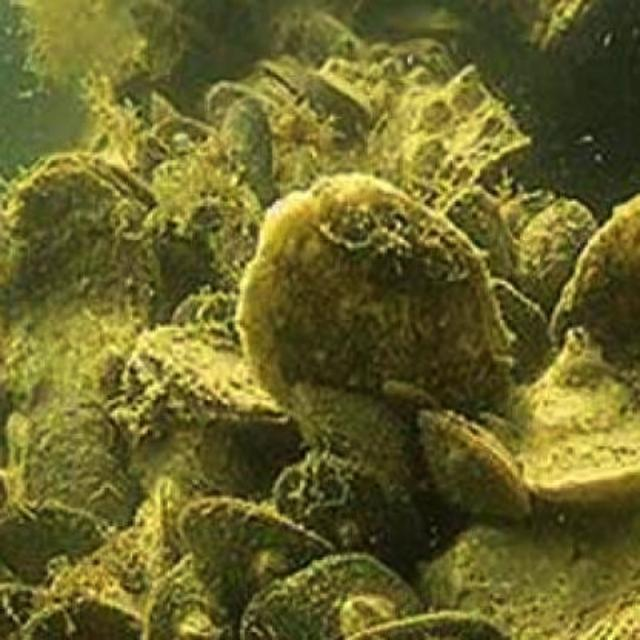Oyster-Closed: (235, 171, 516, 424), (0, 150, 162, 391), (518, 334, 638, 505), (273, 452, 428, 569), (177, 495, 335, 609), (125, 323, 292, 428), (240, 549, 424, 638), (552, 203, 638, 371), (421, 408, 534, 514), (22, 439, 142, 526), (515, 194, 600, 311), (0, 501, 107, 585), (146, 554, 241, 638), (448, 188, 517, 282), (217, 96, 275, 203), (495, 278, 556, 376), (29, 399, 124, 456), (20, 597, 144, 638), (543, 0, 624, 62), (340, 611, 514, 638), (156, 470, 192, 562), (206, 81, 276, 128), (310, 72, 371, 119), (154, 116, 212, 157)
Oyster-Open: (258, 62, 328, 118)
